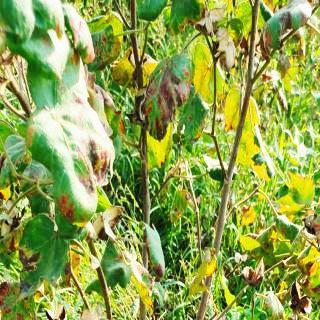blight: (3, 0, 116, 307), (141, 39, 194, 142), (258, 0, 313, 62)
